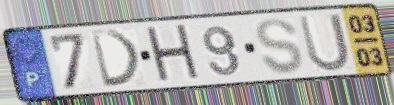7: (47, 30, 90, 92)
9: (200, 24, 242, 77)
D: (88, 28, 144, 90)
H: (143, 21, 205, 86)
S: (254, 16, 306, 76)
U: (295, 11, 352, 74)
